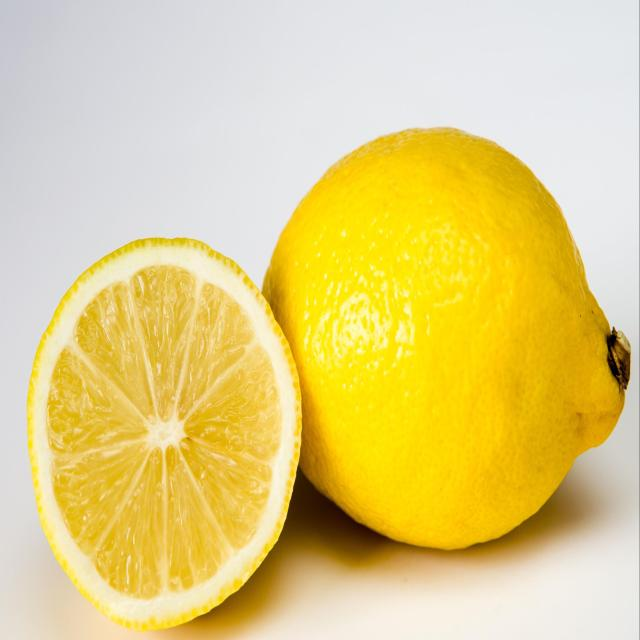lemon: (244, 117, 636, 559), (23, 230, 306, 638)
